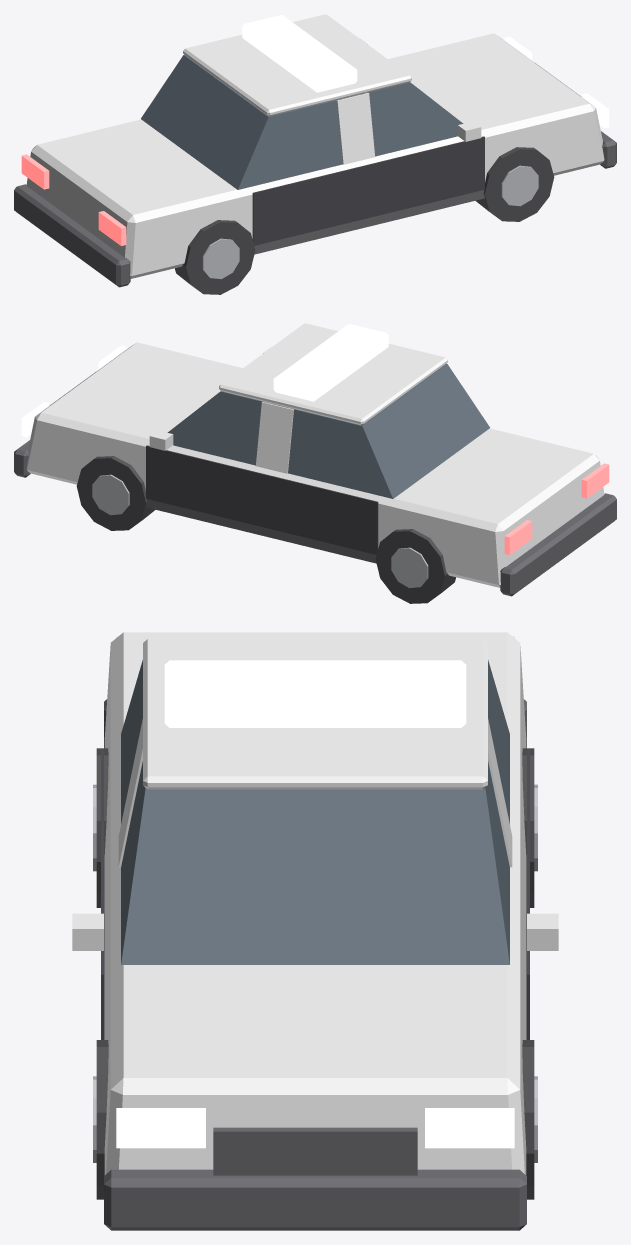
Rendered from car_police.glb.
3 renders of one model, top to bottom at view 1: azimuth 30°, elevation 25°; view 2: azimuth 150°, elevation 25°; view 3: azimuth 270°, elevation 25°, orthographic. The views are drawn at different scales.
Visible parts, largest first — view 1: body, cabin, doorsR, roof, bar, bumperR, tyre0-1, tyre1-1, pillarR, sill, hub1-1, hub0-1 (+5 smaller); view 2: body, cabin, doorsL, roof, bar, bumperR, tyre01, tyre11, pillarL, sill, hub11, hub01 (+5 smaller); view 3: body, cabin, roof, bumperF, bar, grille, head1, head-1, tyre1-1, tyre11, mirror1, mirror-1 (+4 smaller).
Part boxes in pixels (x1,y1,x2,y2): body: (26, 33, 604, 278); cabin: (141, 54, 463, 189); doorsR: (252, 136, 484, 245); roof: (183, 14, 411, 116); bar: (242, 15, 357, 92); bumperR: (14, 184, 130, 287); tyre0-1: (175, 220, 255, 294); tyre1-1: (475, 147, 554, 221); pillarR: (337, 92, 375, 164); sill: (254, 190, 484, 254); hub1-1: (501, 165, 538, 206); hub0-1: (202, 238, 239, 279); body: (26, 342, 604, 587); cabin: (167, 363, 489, 498); doorsL: (146, 445, 378, 554); roof: (219, 323, 447, 425); bar: (273, 324, 388, 401); bumperR: (500, 493, 616, 596); tyre01: (375, 529, 455, 603); tyre11: (76, 456, 155, 530); pillarL: (255, 402, 293, 473); sill: (146, 499, 376, 563); hub11: (92, 474, 129, 515); hub01: (391, 547, 428, 588); body: (104, 632, 526, 1175); cabin: (121, 660, 509, 964); roof: (143, 638, 487, 789); bumperF: (104, 1169, 526, 1230); bar: (164, 660, 466, 727); grille: (213, 1127, 417, 1175); head1: (425, 1108, 514, 1148); head-1: (116, 1108, 205, 1148); tyre1-1: (96, 1040, 108, 1199); tyre11: (522, 1040, 534, 1199); mirror1: (527, 913, 558, 950); mirror-1: (72, 913, 103, 950).
Size of the model in its own units: 4.76 by 1.6 by 2.
